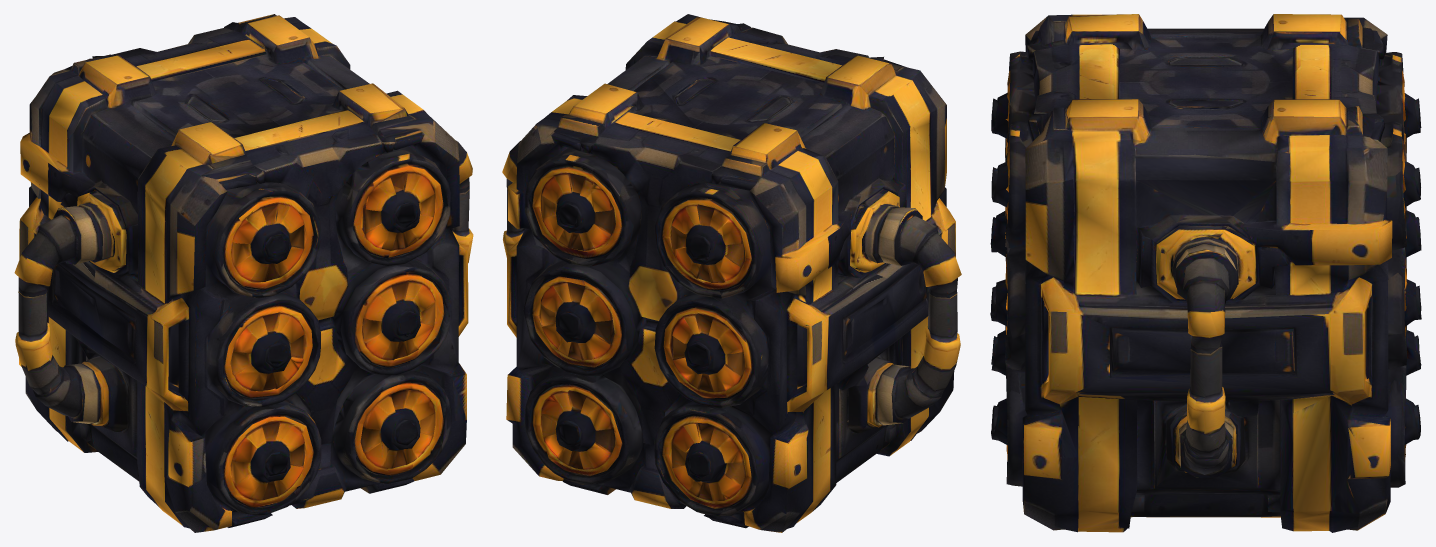
The model's file is ZephyrPack.glb.
The picture shows the model from 3 angles, left to right: view 1: azimuth 30°, elevation 25°; view 2: azimuth 150°, elevation 25°; view 3: azimuth 270°, elevation 25°; orthographic projection. The views are drawn at different scales.
Parts seen in each view (by area): view 1: Mesh_0; view 2: Mesh_0; view 3: Mesh_0.
Part boxes in pixels (bbox=[...]): Mesh_0: bbox=[14, 14, 473, 532]; Mesh_0: bbox=[502, 14, 961, 532]; Mesh_0: bbox=[990, 14, 1421, 532].
Size of the model in its own units: 1.9 by 1.49 by 1.44.
1 material, 1 textured.
